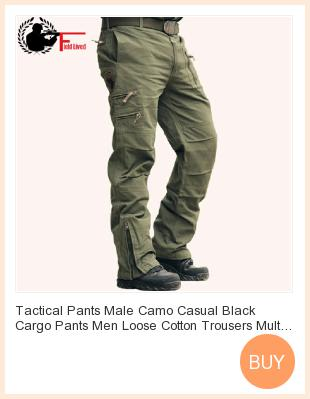pants: (95, 28, 216, 263)
